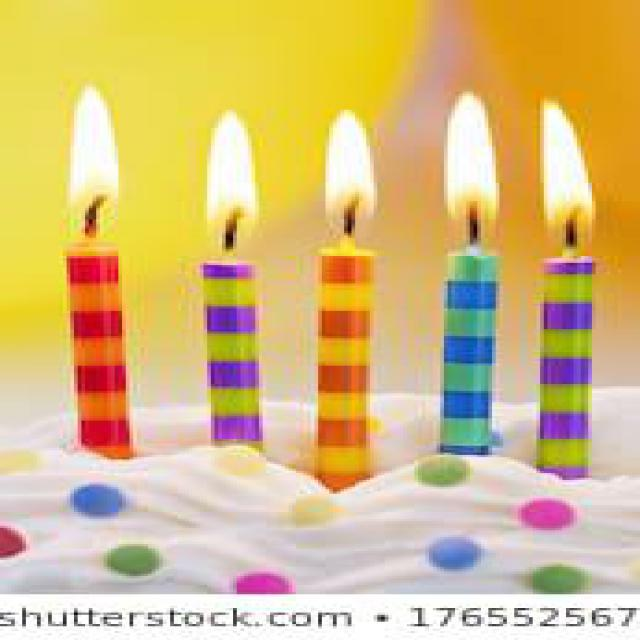Fire: (444, 90, 503, 230), (542, 101, 598, 242), (72, 84, 120, 225), (205, 110, 257, 233), (324, 110, 379, 226)
